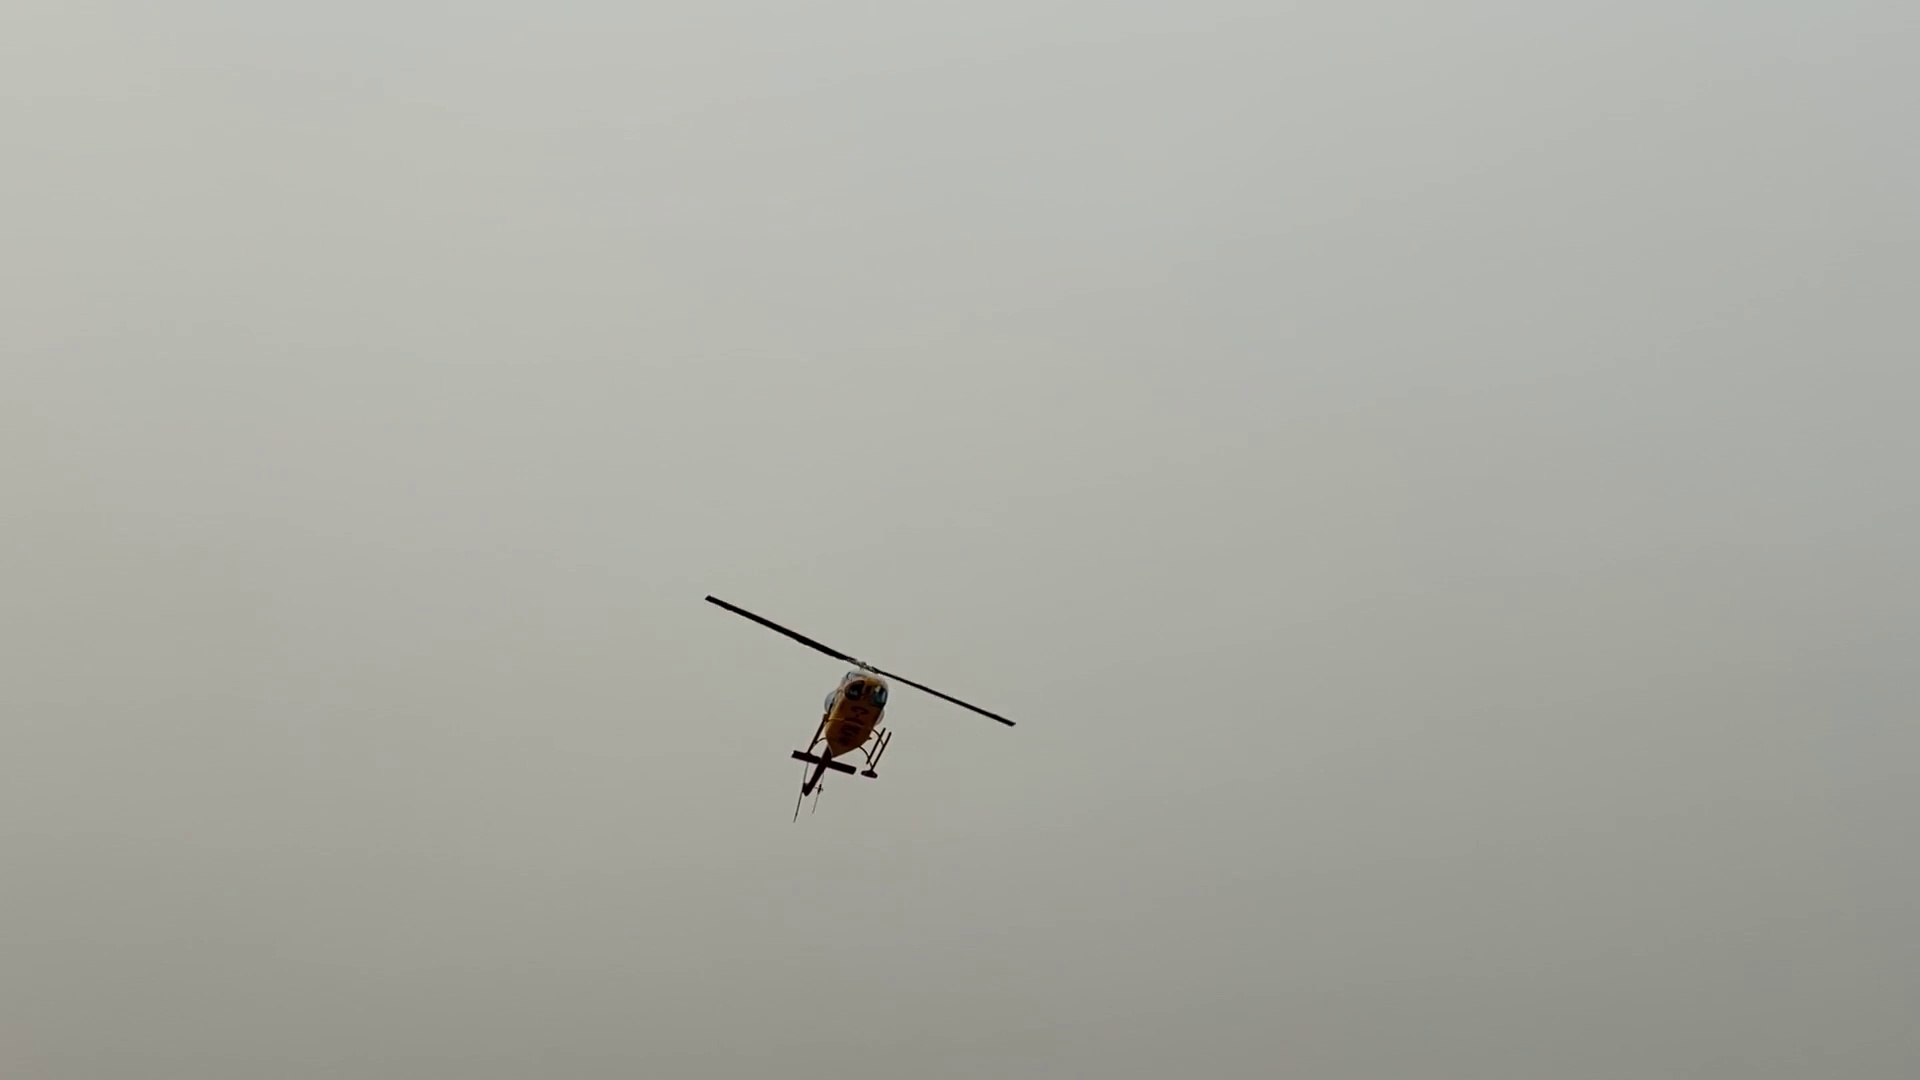heli: (702, 589, 1018, 796)
